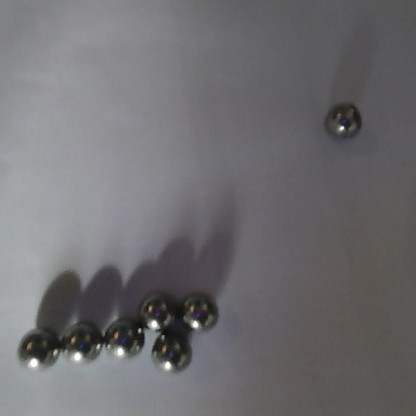ironball: (176, 286, 223, 335), (146, 328, 190, 378), (14, 326, 58, 371), (320, 99, 363, 141), (100, 318, 145, 358), (58, 323, 99, 366), (139, 292, 177, 331)
